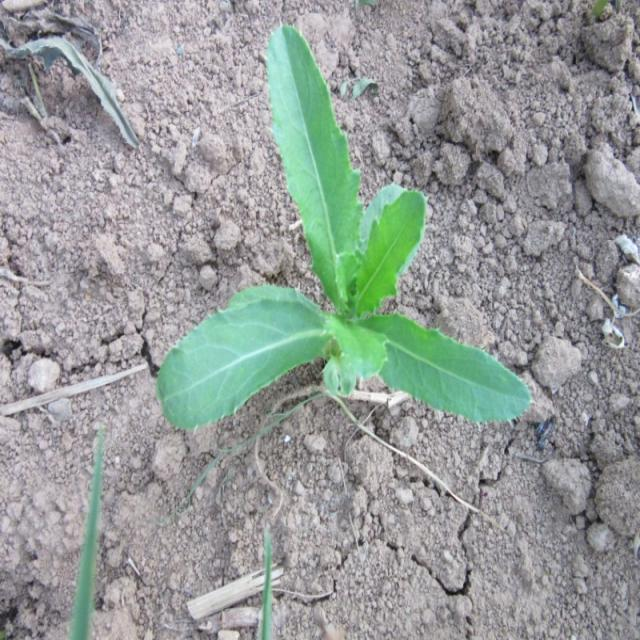cs: (155, 16, 536, 442)
